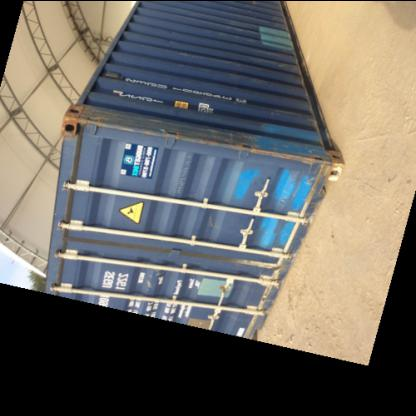Damage: (230, 134, 324, 180), (58, 101, 148, 138), (147, 115, 229, 154), (292, 160, 336, 212), (242, 280, 272, 342), (224, 252, 288, 278)
